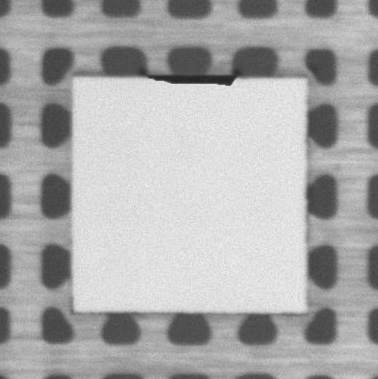DIE_BROKEN: (142, 72, 239, 85)
